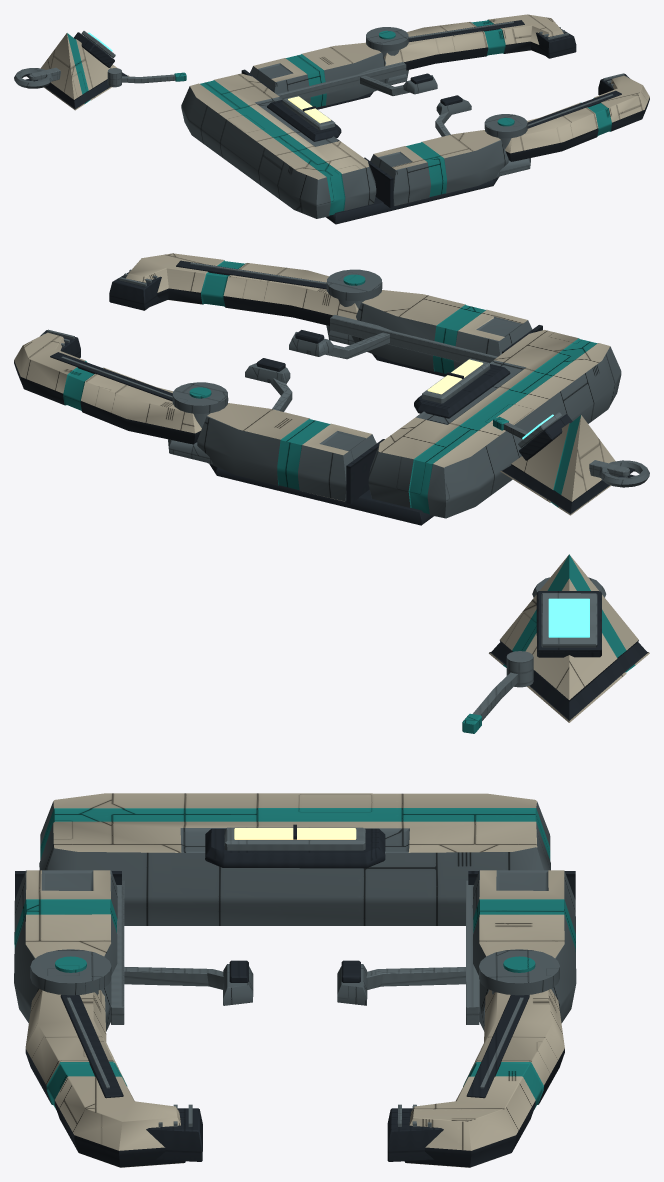
File: pip_spanner_lod2.glb
3 views of the same model, one above another, from view 1: azimuth 30°, elevation 25°; view 2: azimuth 150°, elevation 25°; view 3: azimuth 270°, elevation 25° (orthographic). The views are drawn at different scales.
Parts seen in each view (by area): view 1: LOD0_SPANNER_ROOT__Armor, LOD0_SPANNER_ROOT__Hull, LOD0_SPANNER_ROOT__Livery, LOD0_CLAW_L__Hull, LOD0_CLAW_R__Hull, LOD0_SPANNER_ROOT__MechanicalDark, LOD0_CLAW_L__MechanicalDark, LOD0_PIP_ROOT__Hull, LOD0_SPANNER_ROOT__Mechanical, LOD0_CLAW_R__MechanicalDark, LOD0_PIP_ROOT__MechanicalDark, LOD0_PIP_ROOT__Mechanical (+10 smaller); view 2: LOD0_SPANNER_ROOT__Armor, LOD0_SPANNER_ROOT__Hull, LOD0_SPANNER_ROOT__Livery, LOD0_CLAW_R__Hull, LOD0_CLAW_L__Hull, LOD0_SPANNER_ROOT__MechanicalDark, LOD0_CLAW_R__MechanicalDark, LOD0_PIP_ROOT__Hull, LOD0_SPANNER_ROOT__Mechanical, LOD0_CLAW_L__MechanicalDark, LOD0_PIP_ROOT__MechanicalDark, LOD0_ITEM_CRADLE__Mechanical (+10 smaller); view 3: LOD0_SPANNER_ROOT__Armor, LOD0_SPANNER_ROOT__Hull, LOD0_SPANNER_ROOT__Livery, LOD0_CLAW_R__Hull, LOD0_CLAW_L__Hull, LOD0_CLAW_L__MechanicalDark, LOD0_CLAW_R__MechanicalDark, LOD0_SPANNER_ROOT__Mechanical, LOD0_PIP_ROOT__Hull, LOD0_SPANNER_ROOT__MechanicalDark, LOD0_PIP_ROOT__MechanicalDark, LOD0_ITEM_CRADLE__Mechanical (+8 smaller).
Boxes of the visible parts, x1,y1,x2,y2 form: LOD0_SPANNER_ROOT__Armor: (181, 27, 530, 218); LOD0_SPANNER_ROOT__Hull: (190, 42, 500, 205); LOD0_SPANNER_ROOT__Livery: (200, 30, 514, 215); LOD0_CLAW_L__Hull: (384, 14, 563, 65); LOD0_CLAW_R__Hull: (505, 75, 649, 153); LOD0_SPANNER_ROOT__MechanicalDark: (241, 69, 498, 224); LOD0_CLAW_L__MechanicalDark: (404, 20, 576, 70); LOD0_PIP_ROOT__Hull: (40, 33, 129, 110); LOD0_SPANNER_ROOT__Mechanical: (276, 50, 511, 148); LOD0_CLAW_R__MechanicalDark: (505, 73, 649, 161); LOD0_PIP_ROOT__MechanicalDark: (25, 32, 128, 109); LOD0_PIP_ROOT__Mechanical: (29, 31, 121, 87); LOD0_SPANNER_ROOT__Armor: (168, 269, 621, 518); LOD0_SPANNER_ROOT__Hull: (207, 290, 610, 501); LOD0_SPANNER_ROOT__Livery: (189, 274, 597, 514); LOD0_CLAW_R__Hull: (126, 253, 358, 319); LOD0_CLAW_L__Hull: (14, 332, 201, 433); LOD0_SPANNER_ROOT__MechanicalDark: (209, 325, 542, 525); LOD0_CLAW_R__MechanicalDark: (109, 260, 333, 325); LOD0_PIP_ROOT__Hull: (500, 415, 615, 515); LOD0_SPANNER_ROOT__Mechanical: (193, 299, 497, 427); LOD0_CLAW_L__MechanicalDark: (14, 330, 200, 444); LOD0_PIP_ROOT__MechanicalDark: (501, 414, 635, 514); LOD0_ITEM_CRADLE__Mechanical: (271, 332, 389, 411); LOD0_SPANNER_ROOT__Armor: (14, 801, 576, 1031); LOD0_SPANNER_ROOT__Hull: (25, 793, 564, 958); LOD0_SPANNER_ROOT__Livery: (14, 808, 575, 972); LOD0_CLAW_R__Hull: (25, 989, 183, 1167); LOD0_CLAW_L__Hull: (407, 989, 564, 1167); LOD0_CLAW_L__MechanicalDark: (387, 995, 564, 1167); LOD0_CLAW_R__MechanicalDark: (25, 994, 202, 1167); LOD0_SPANNER_ROOT__Mechanical: (95, 827, 494, 1024); LOD0_PIP_ROOT__Hull: (489, 555, 649, 722); LOD0_SPANNER_ROOT__MechanicalDark: (15, 824, 575, 899); LOD0_PIP_ROOT__MechanicalDark: (490, 591, 648, 720); LOD0_ITEM_CRADLE__Mechanical: (124, 967, 465, 989).
Bounding box in the file's own units: 17.98 × 3.99 × 10.21.
7 materials, 5 textured.
